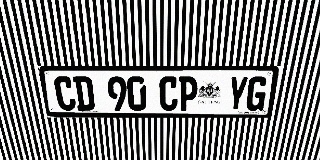0: (126, 76, 146, 111)
9: (107, 76, 128, 111)
C: (53, 76, 77, 111), (159, 76, 178, 111)
D: (73, 76, 95, 111)
G: (245, 76, 269, 111)
P: (178, 76, 198, 111)
Y: (226, 76, 249, 111)
